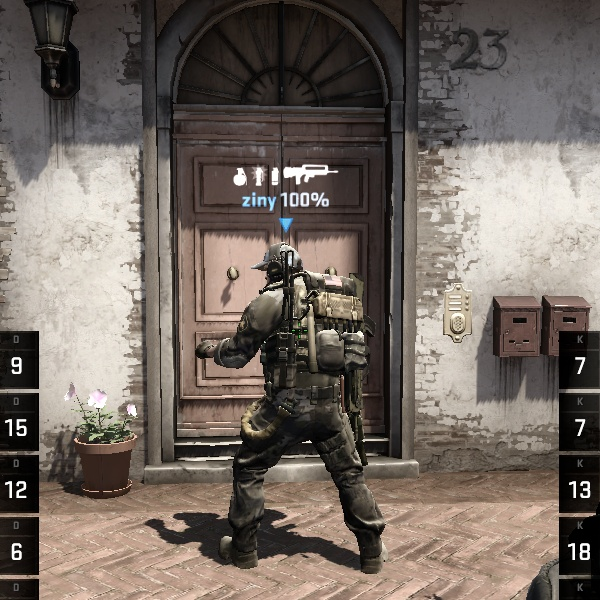ct_body: (220, 230, 387, 574)
ct_head: (250, 238, 317, 304)
